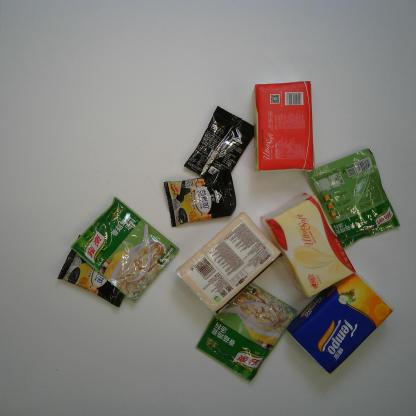Instant Drink: (183, 105, 255, 184), (57, 234, 132, 308), (164, 166, 236, 228)
Seasoner: (69, 196, 180, 305), (195, 284, 297, 382), (307, 148, 401, 250)
Tissue: (175, 212, 283, 318), (286, 273, 394, 375), (262, 192, 356, 300), (252, 80, 316, 172)
